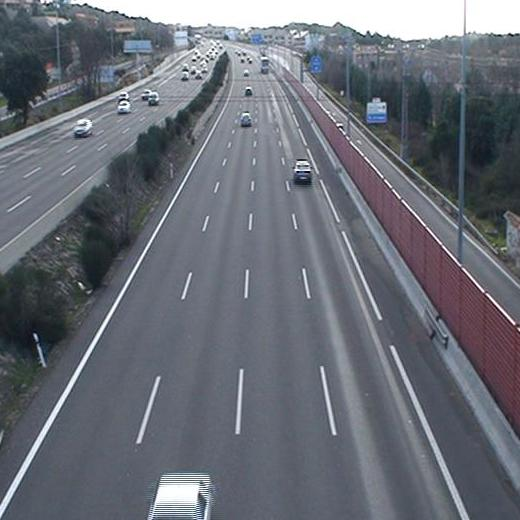car: (289, 158, 315, 186), (239, 111, 253, 128)
